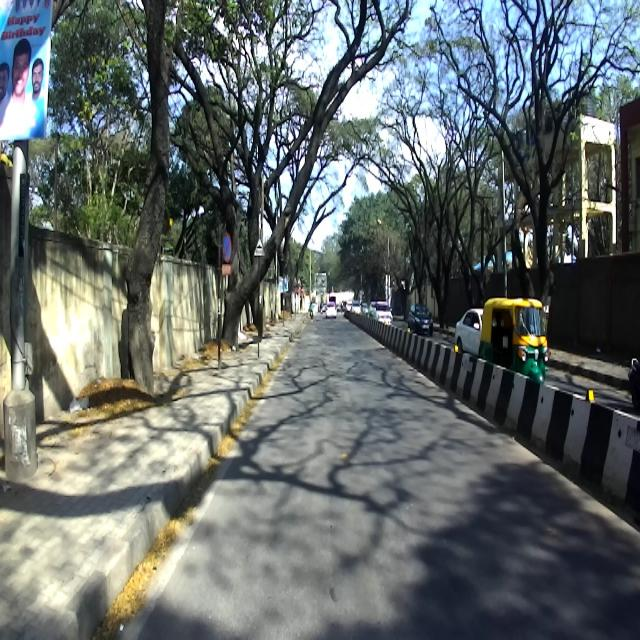autorickshaw: (479, 298, 547, 383)
